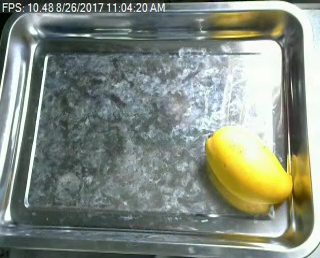Mango: (202, 124, 298, 205)
